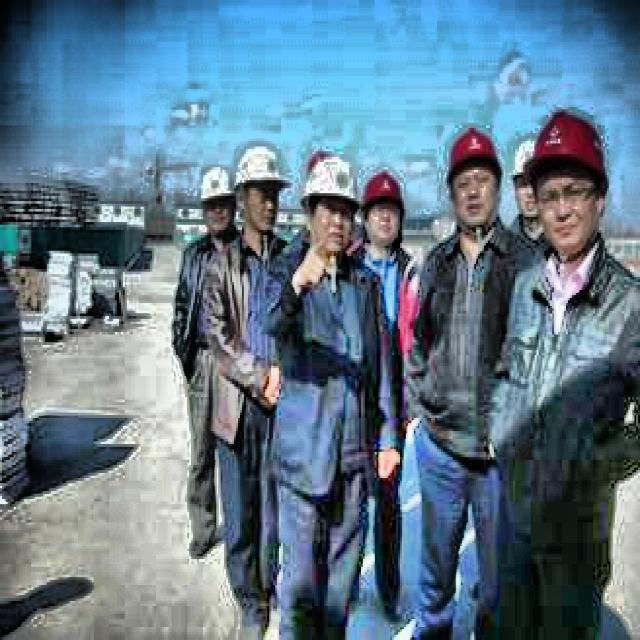helmet: (523, 107, 613, 256), (299, 146, 361, 259), (443, 120, 503, 235), (234, 136, 287, 238), (361, 164, 408, 253), (197, 159, 236, 243), (512, 136, 542, 222)
